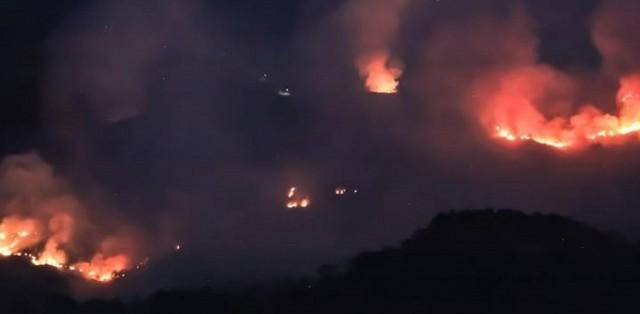fire: (529, 127, 572, 150), (370, 72, 410, 96), (596, 118, 640, 134), (0, 229, 24, 257), (33, 252, 63, 269)
